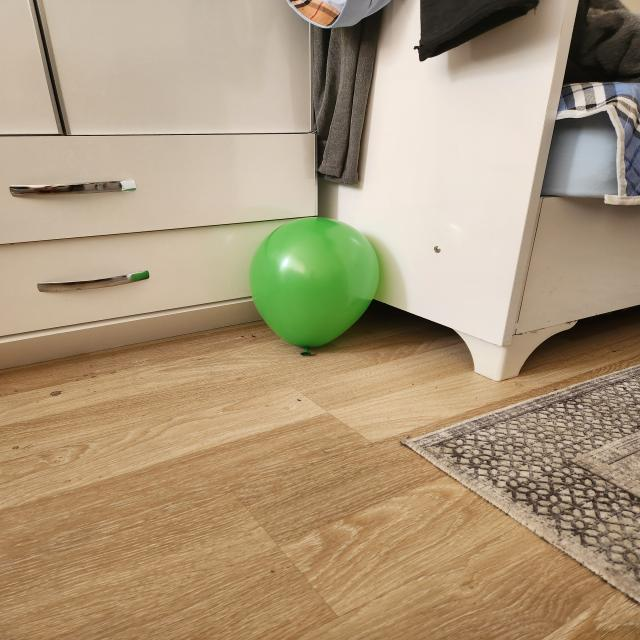green: (251, 218, 380, 355)
